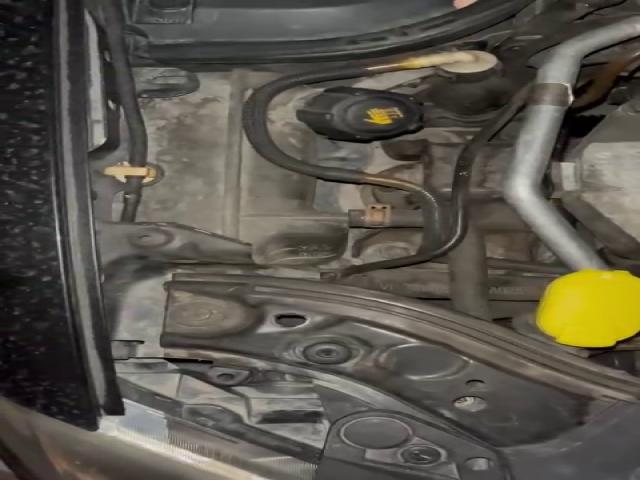antifreeze_tank: (141, 71, 349, 265), (267, 86, 424, 159)
